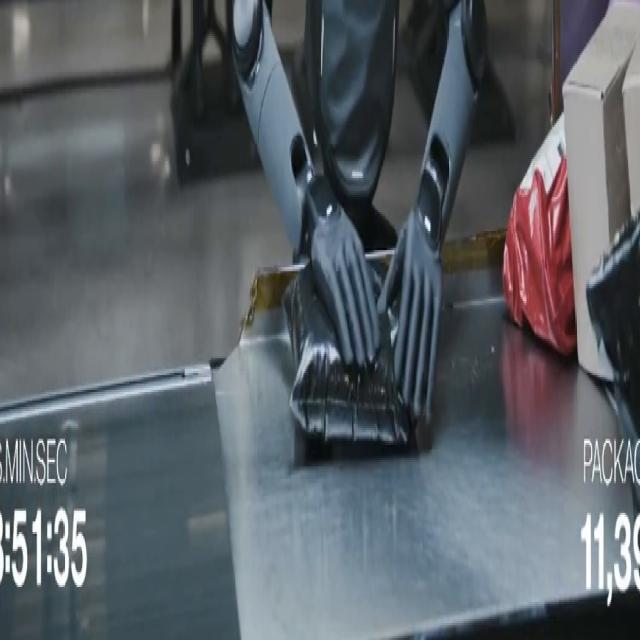package: (564, 5, 639, 379), (283, 263, 414, 447), (503, 117, 576, 356), (587, 217, 639, 383), (623, 45, 639, 214)
